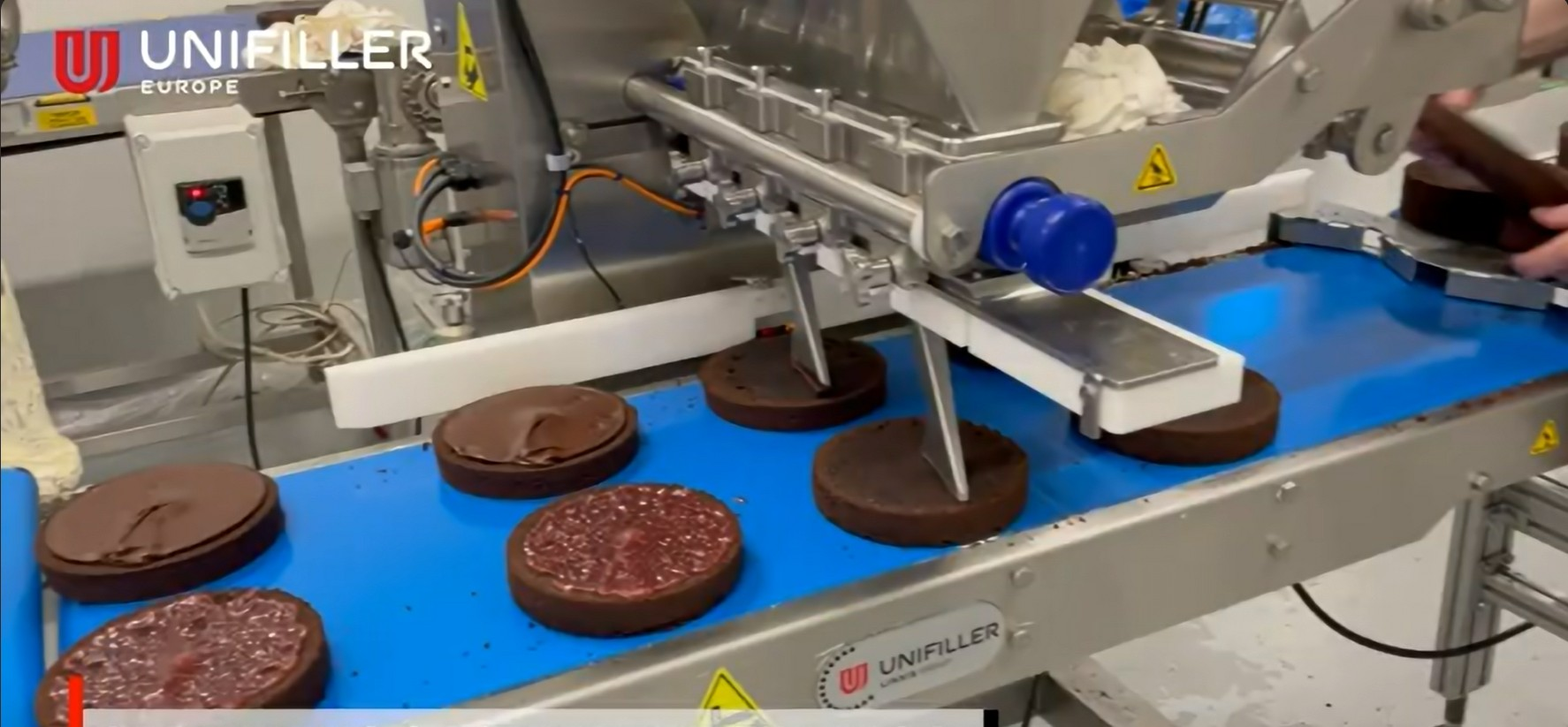Chocolate Cake: (815, 426, 1025, 547), (1070, 369, 1282, 462), (699, 332, 889, 429), (1404, 141, 1551, 245)
Chocolate Coated: (40, 585, 327, 727), (37, 450, 282, 607), (508, 485, 741, 632), (434, 384, 634, 494)
